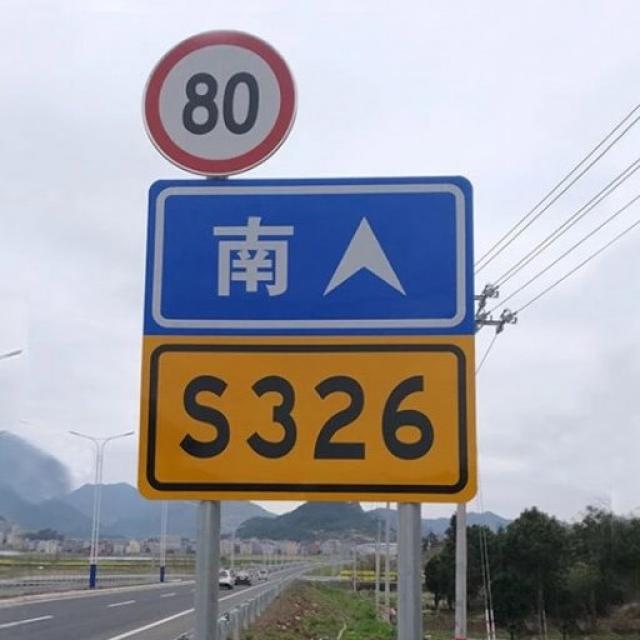speed limit 80: (140, 30, 298, 176)
